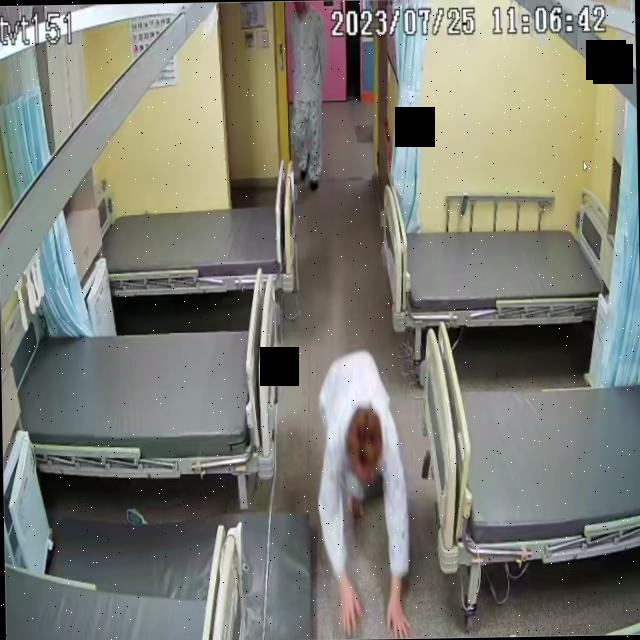bed: (420, 318, 640, 567), (14, 318, 280, 476), (380, 208, 616, 331), (102, 193, 294, 294)
fall: (314, 348, 409, 640)
patient: (313, 349, 408, 640), (288, 0, 326, 190)
stand: (288, 0, 326, 190)
